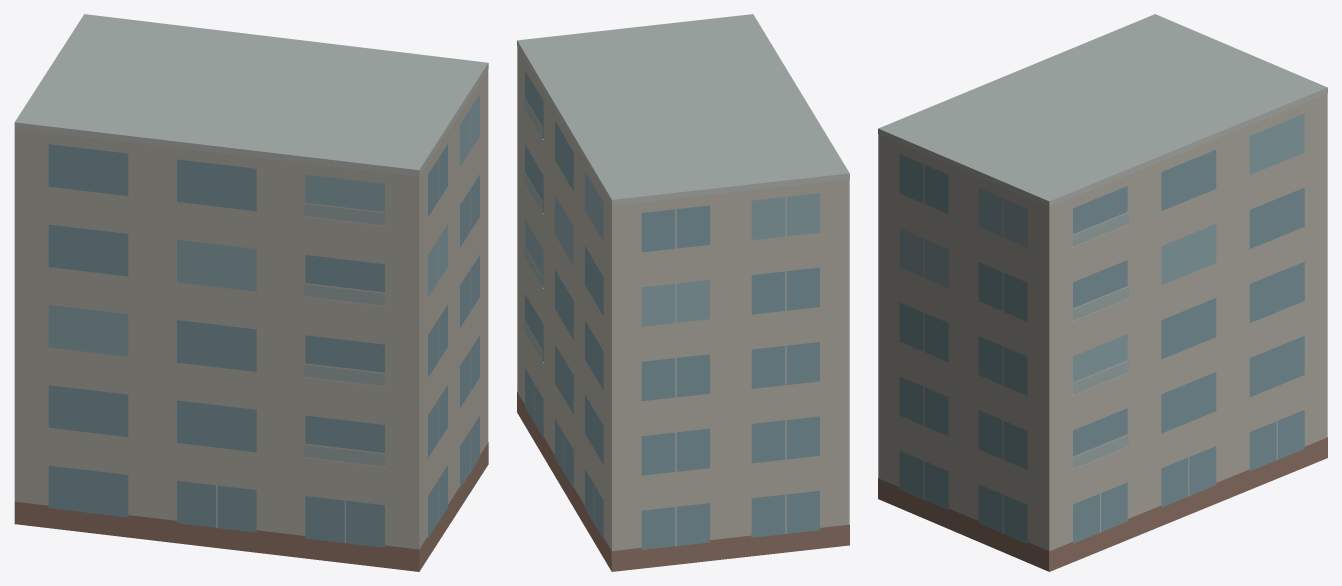
The model's file is survey-upis-32842745.glb.
3 renders of one model, left to right at view 1: azimuth 30°, elevation 25°; view 2: azimuth 150°, elevation 25°; view 3: azimuth 270°, elevation 25°, orthographic. The views are drawn at different scales.
Visible parts, largest first — view 1: survey-upis-32842745.tmp; view 2: survey-upis-32842745.tmp; view 3: survey-upis-32842745.tmp.
Boxes of the visible parts, x1,y1,x2,y2 form: survey-upis-32842745.tmp: (14,14,488,571); survey-upis-32842745.tmp: (517,14,849,571); survey-upis-32842745.tmp: (878,14,1327,571).
Size of the model in its own units: 16.88 by 15.55 by 17.11.
